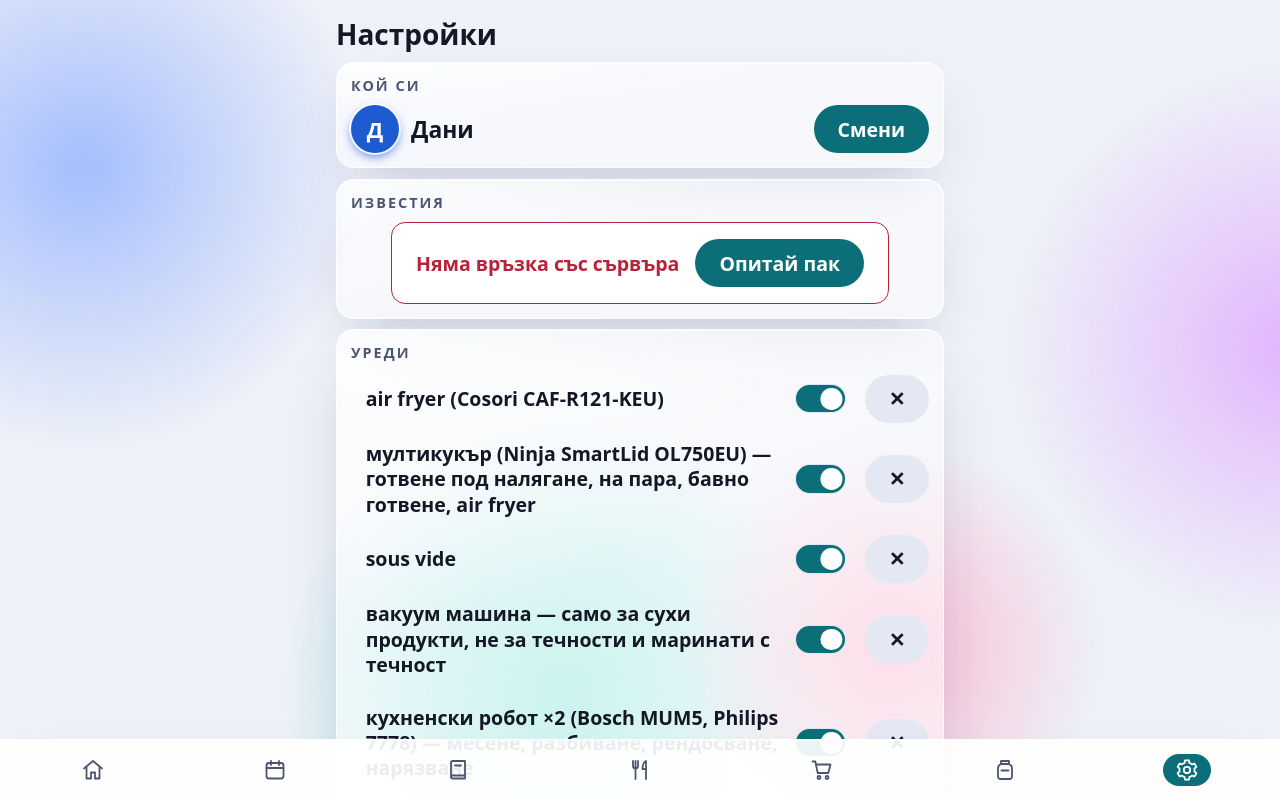
Test: SettingsScreen › „Кой си“ показва действащия потребител, „Смени“ води към „Кой си?“
The image size is (1280, 800).
Expected: the text "Дани" is shown, top-left (411, 114), bottom-right (474, 145)
Step 1. Click the link "Смени" → (871, 130), box top-left (814, 106), bottom-right (929, 154)
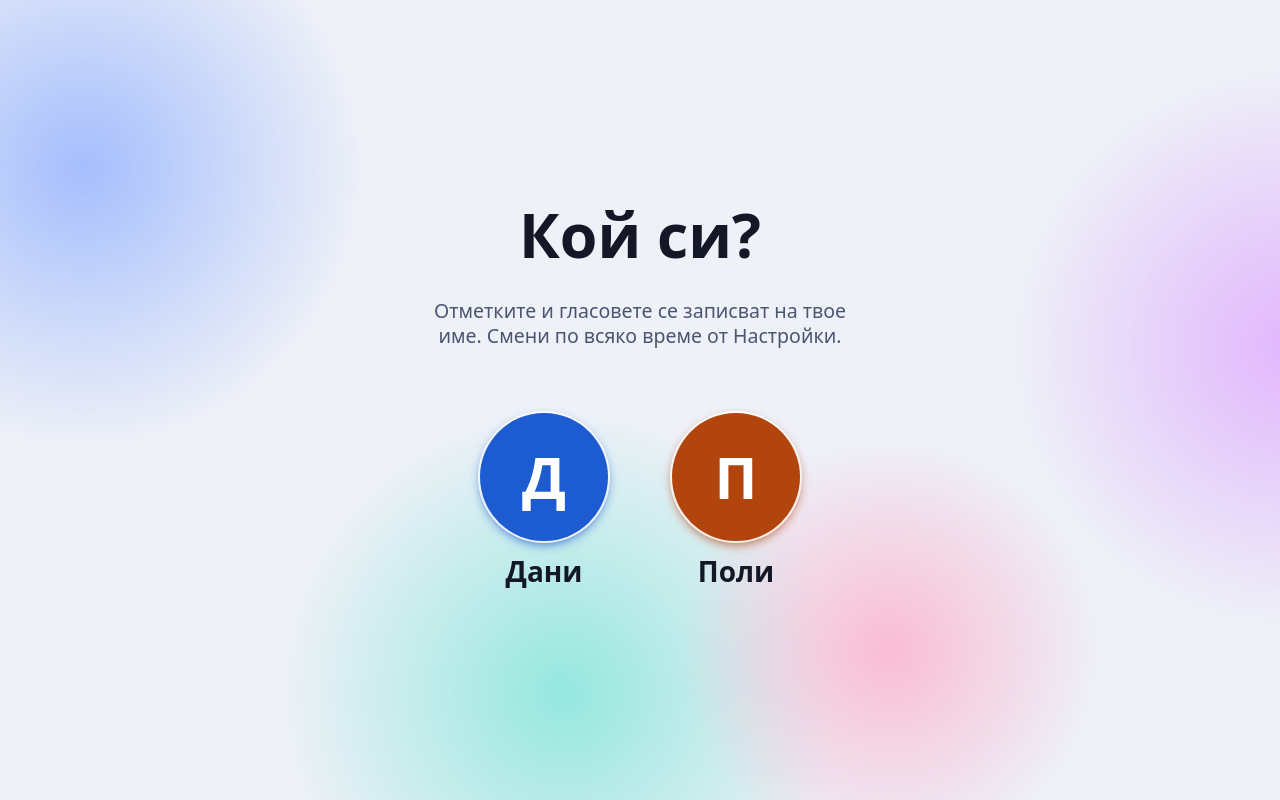
Expected: the heading "Кой си?" is shown, top-left (519, 195), bottom-right (761, 274)
